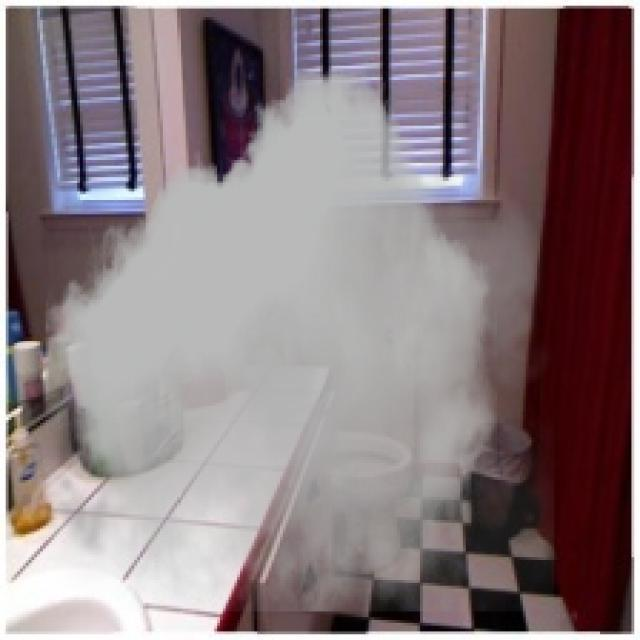Smoke: (37, 69, 554, 612)
